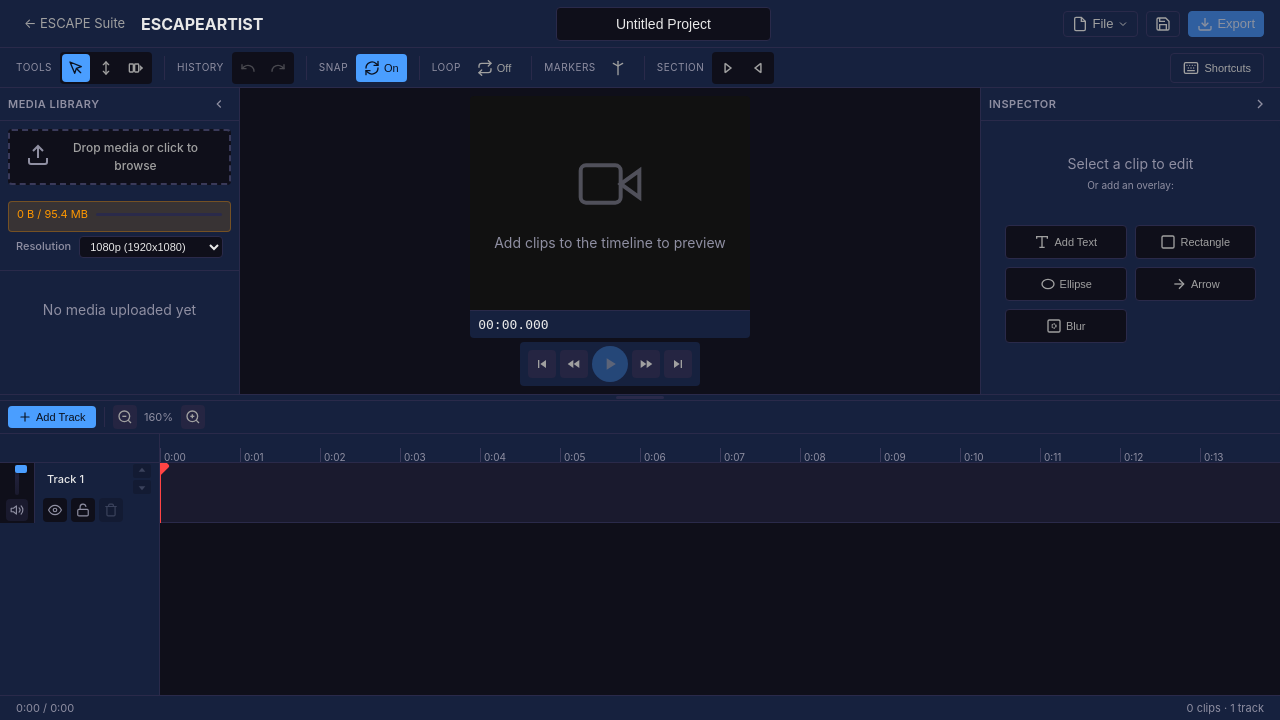
App › inspector panel › shows ClipEditor when inspector is expanded
This screenshot has width=1280, height=720.
Note: Collapse first
Click the button titled "Hide inspector": (1260, 104) [1248,92,1272,116]
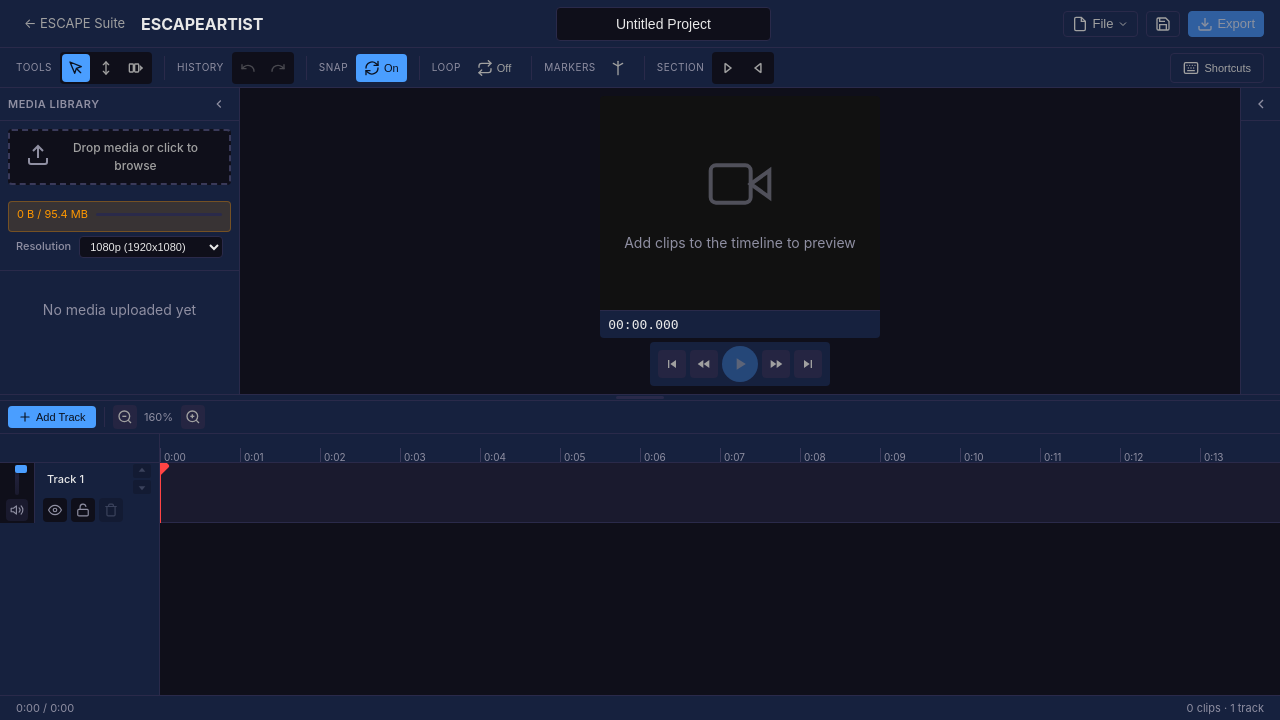
Note: Then expand
Click the button titled "Show inspector": (1260, 104) [1248,92,1272,116]
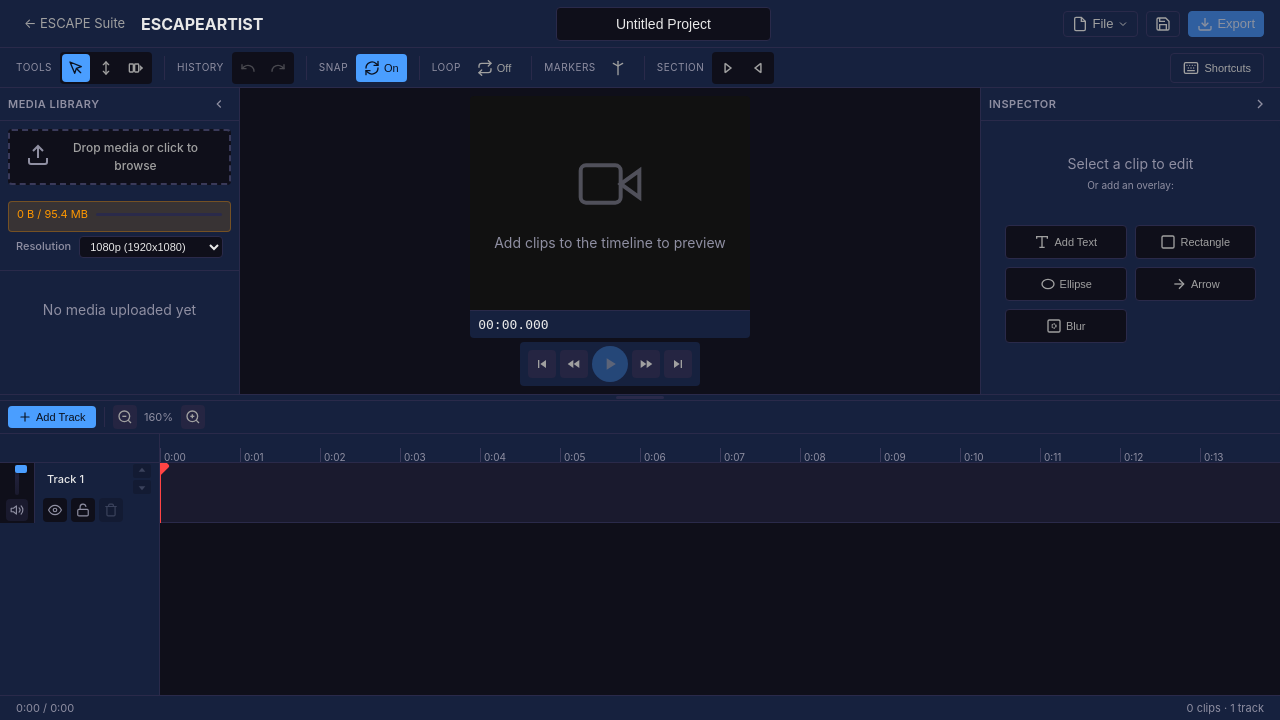
Check: the text "Select a clip to edit" is shown, box [1068,153,1193,174]
